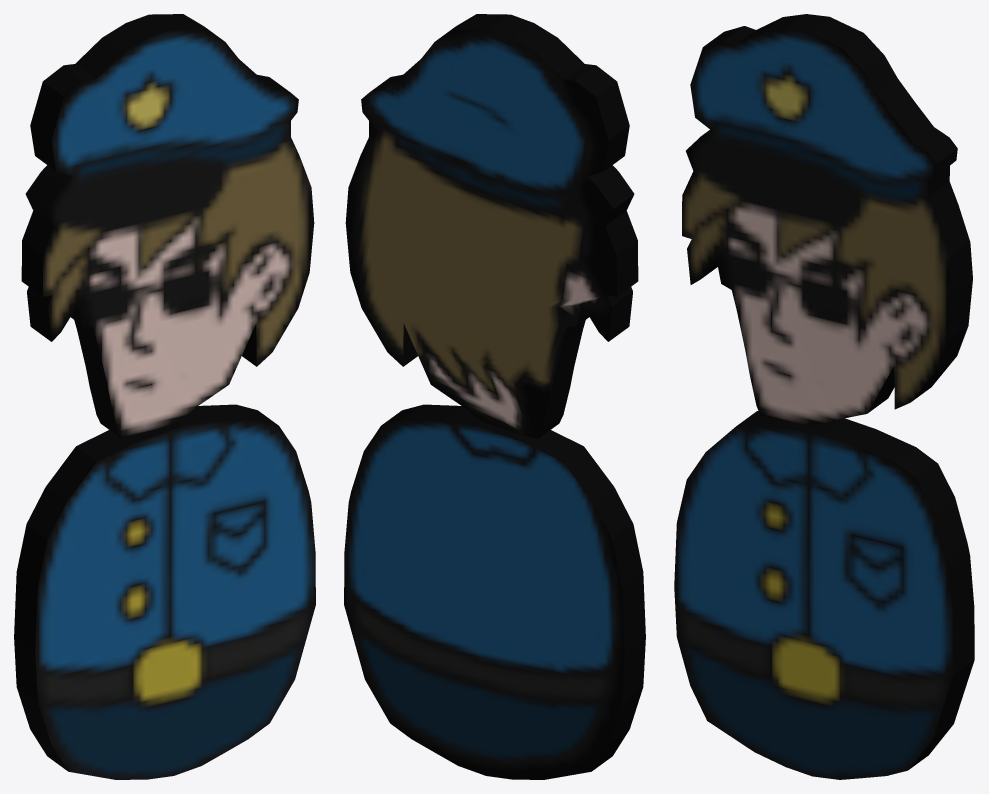
Rendered from Polizia_Uomo.fbx.
3 renders of one model, left to right at view 1: azimuth 30°, elevation 25°; view 2: azimuth 150°, elevation 25°; view 3: azimuth 330°, elevation 25°, orthographic.
Parts seen in each view (by area): view 1: polySurface29; view 2: polySurface29; view 3: polySurface29.
Part boxes in pixels (x1,y1,x2,y2): polySurface29: (14, 14, 315, 779); polySurface29: (344, 14, 645, 779); polySurface29: (674, 14, 974, 779).
Size of the model in its own units: 0.2962 by 0.753 by 0.0388.
